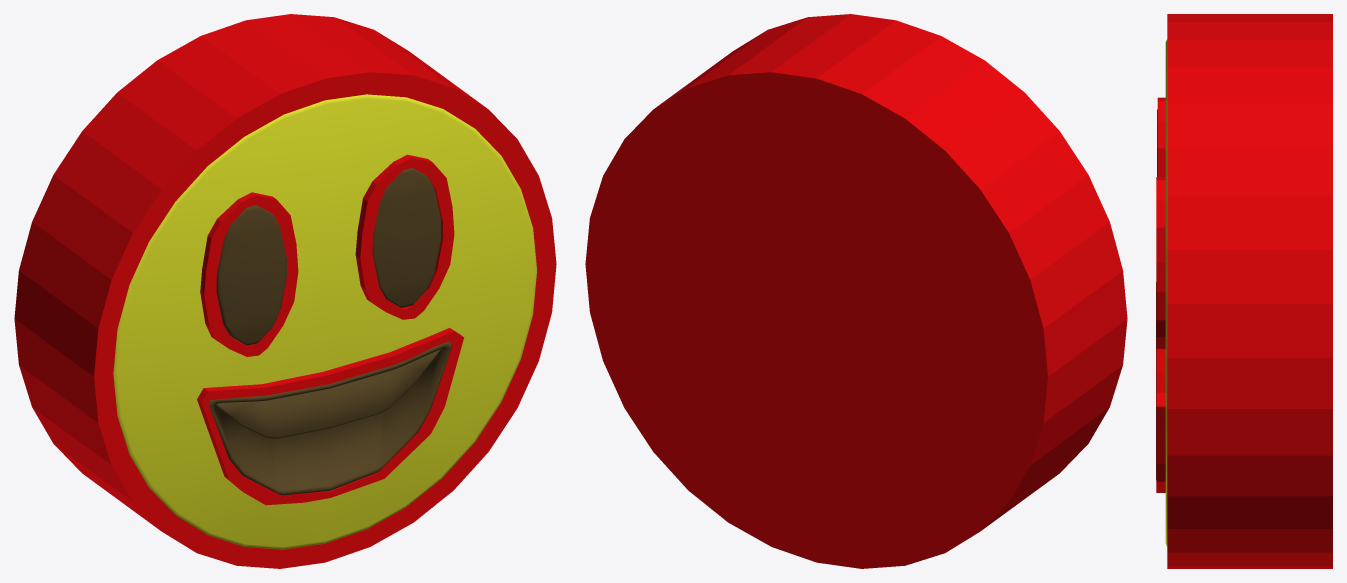
The model's file is Smiley_Outlined.gltf.
3 renders of one model, left to right at view 1: azimuth 30°, elevation 25°; view 2: azimuth 150°, elevation 25°; view 3: azimuth 270°, elevation 25°, orthographic. The views are drawn at different scales.
Parts seen in each view (by area): view 1: Cylinder.129, Cylinder, Cube.002, Cube, Cube.001; view 2: Cylinder; view 3: Cylinder, Cylinder.129, Cube, Cube.002, Cube.001.
Part boxes in pixels (x1,y1,x2,y2): Cylinder.129: [113, 94, 537, 549]; Cylinder: [14, 14, 556, 568]; Cube.002: [197, 328, 464, 505]; Cube: [355, 154, 454, 319]; Cube.001: [200, 192, 298, 356]; Cylinder: [585, 14, 1127, 568]; Cylinder: [1167, 14, 1332, 568]; Cylinder.129: [1156, 39, 1167, 546]; Cube: [1156, 177, 1165, 349]; Cube.002: [1156, 349, 1165, 492]; Cube.001: [1157, 97, 1165, 176].
Size of the model in its own units: 0.94 by 0.94 by 0.299.
